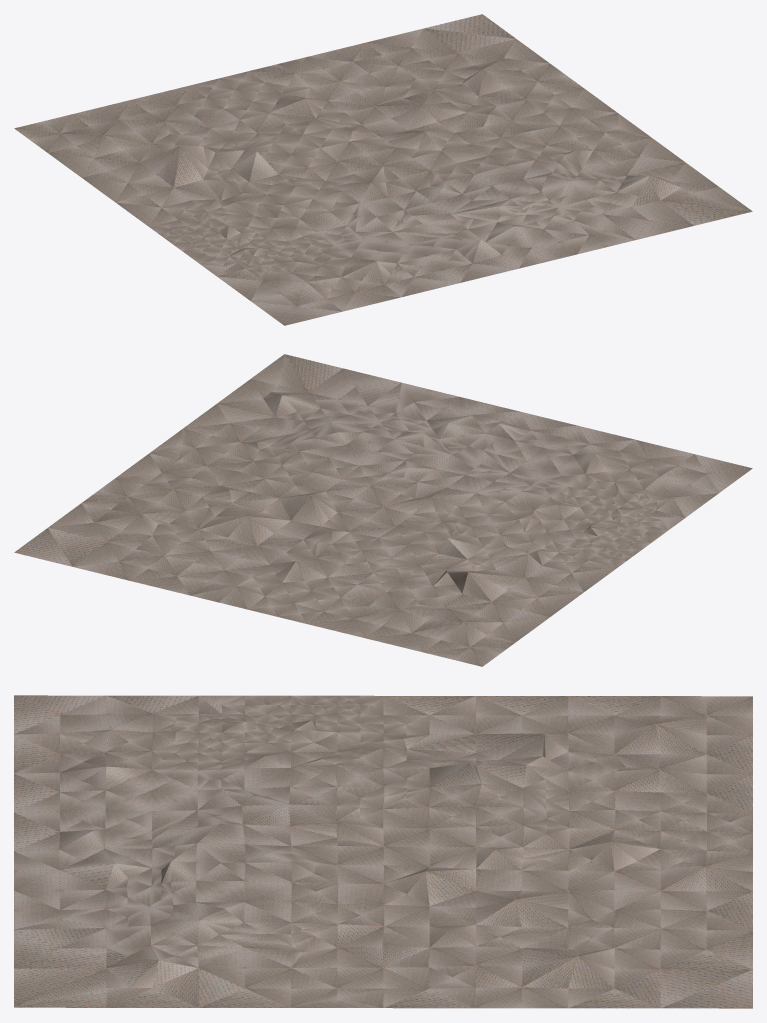
Rendered from topologylevel2.glb.
3 renders of one model, top to bottom at view 1: azimuth 30°, elevation 25°; view 2: azimuth 150°, elevation 25°; view 3: azimuth 270°, elevation 25°, orthographic. The views are drawn at different scales.
Visible parts, largest first — view 1: Plane; view 2: Plane; view 3: Plane.
Boxes of the visible parts, box(x1,y1,x2,y2) form: Plane: box(14, 14, 752, 325); Plane: box(14, 354, 752, 666); Plane: box(14, 695, 752, 1008).
Size of what is drawn, in the model's own units: 32 by 1.26 by 32.
Materials: 1 (1 with a texture image).
